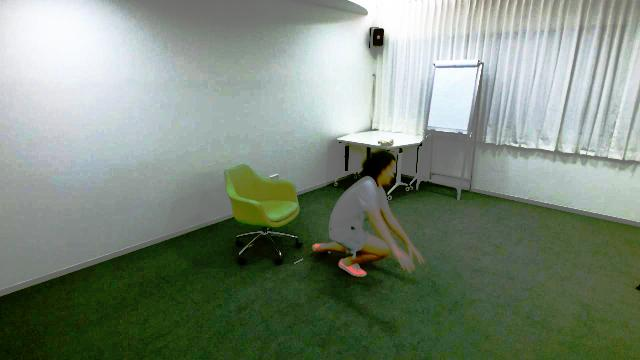jatuh: (312, 146, 428, 298)
